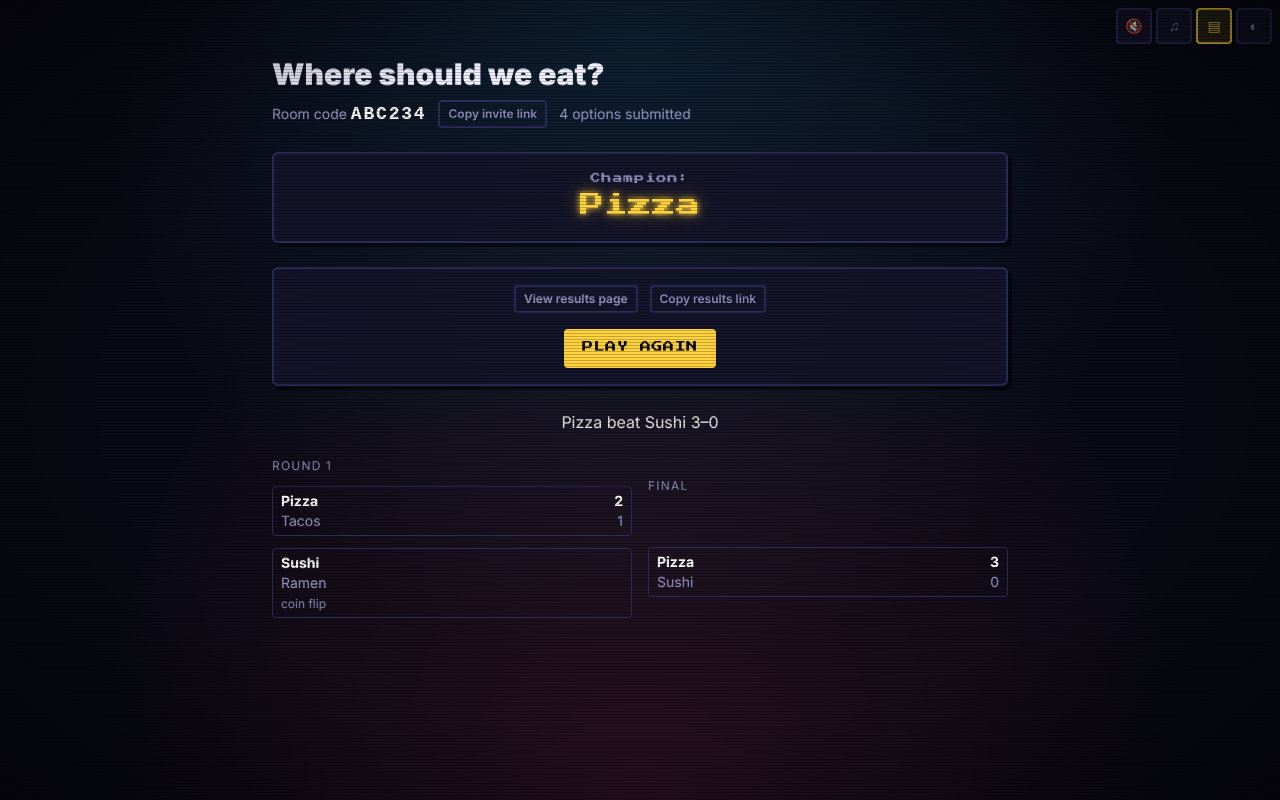
Test: after the champion is crowned › lets the host start a rematch and moves them into the new lobby
Click the button "Play again": point(640, 349) [564,329,716,368]
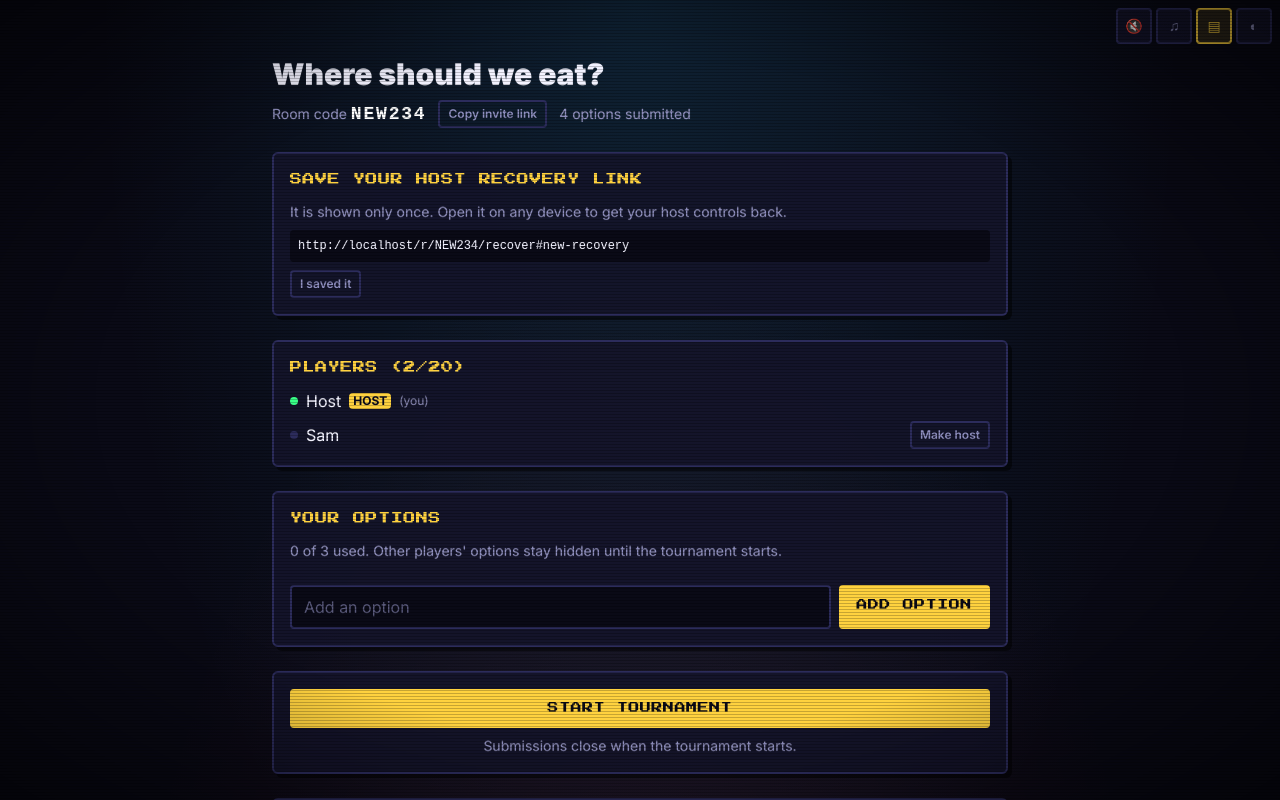
Now the text "http://localhost/r/NEW234/recover#new-recovery" is shown, box [290,230,990,262]
